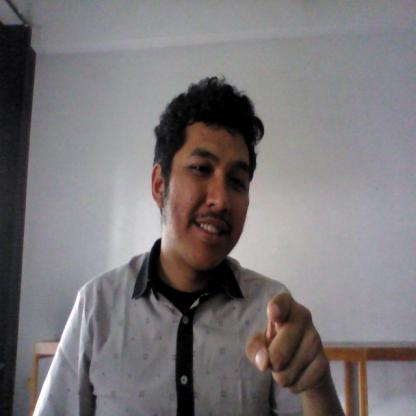Kamu: (228, 292, 343, 401)
